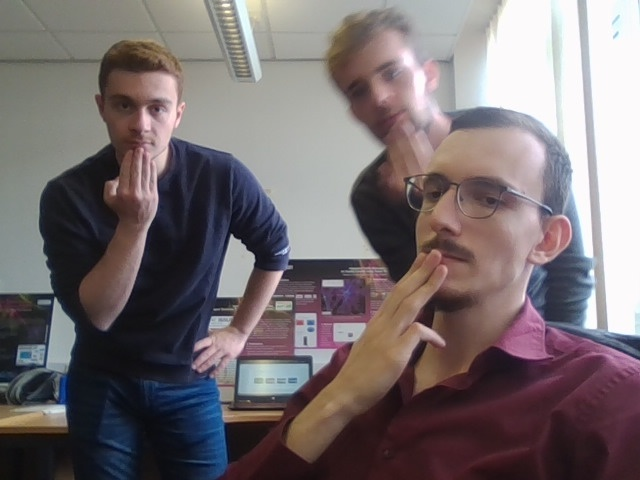livelong: (326, 251, 448, 407), (100, 146, 158, 222)
